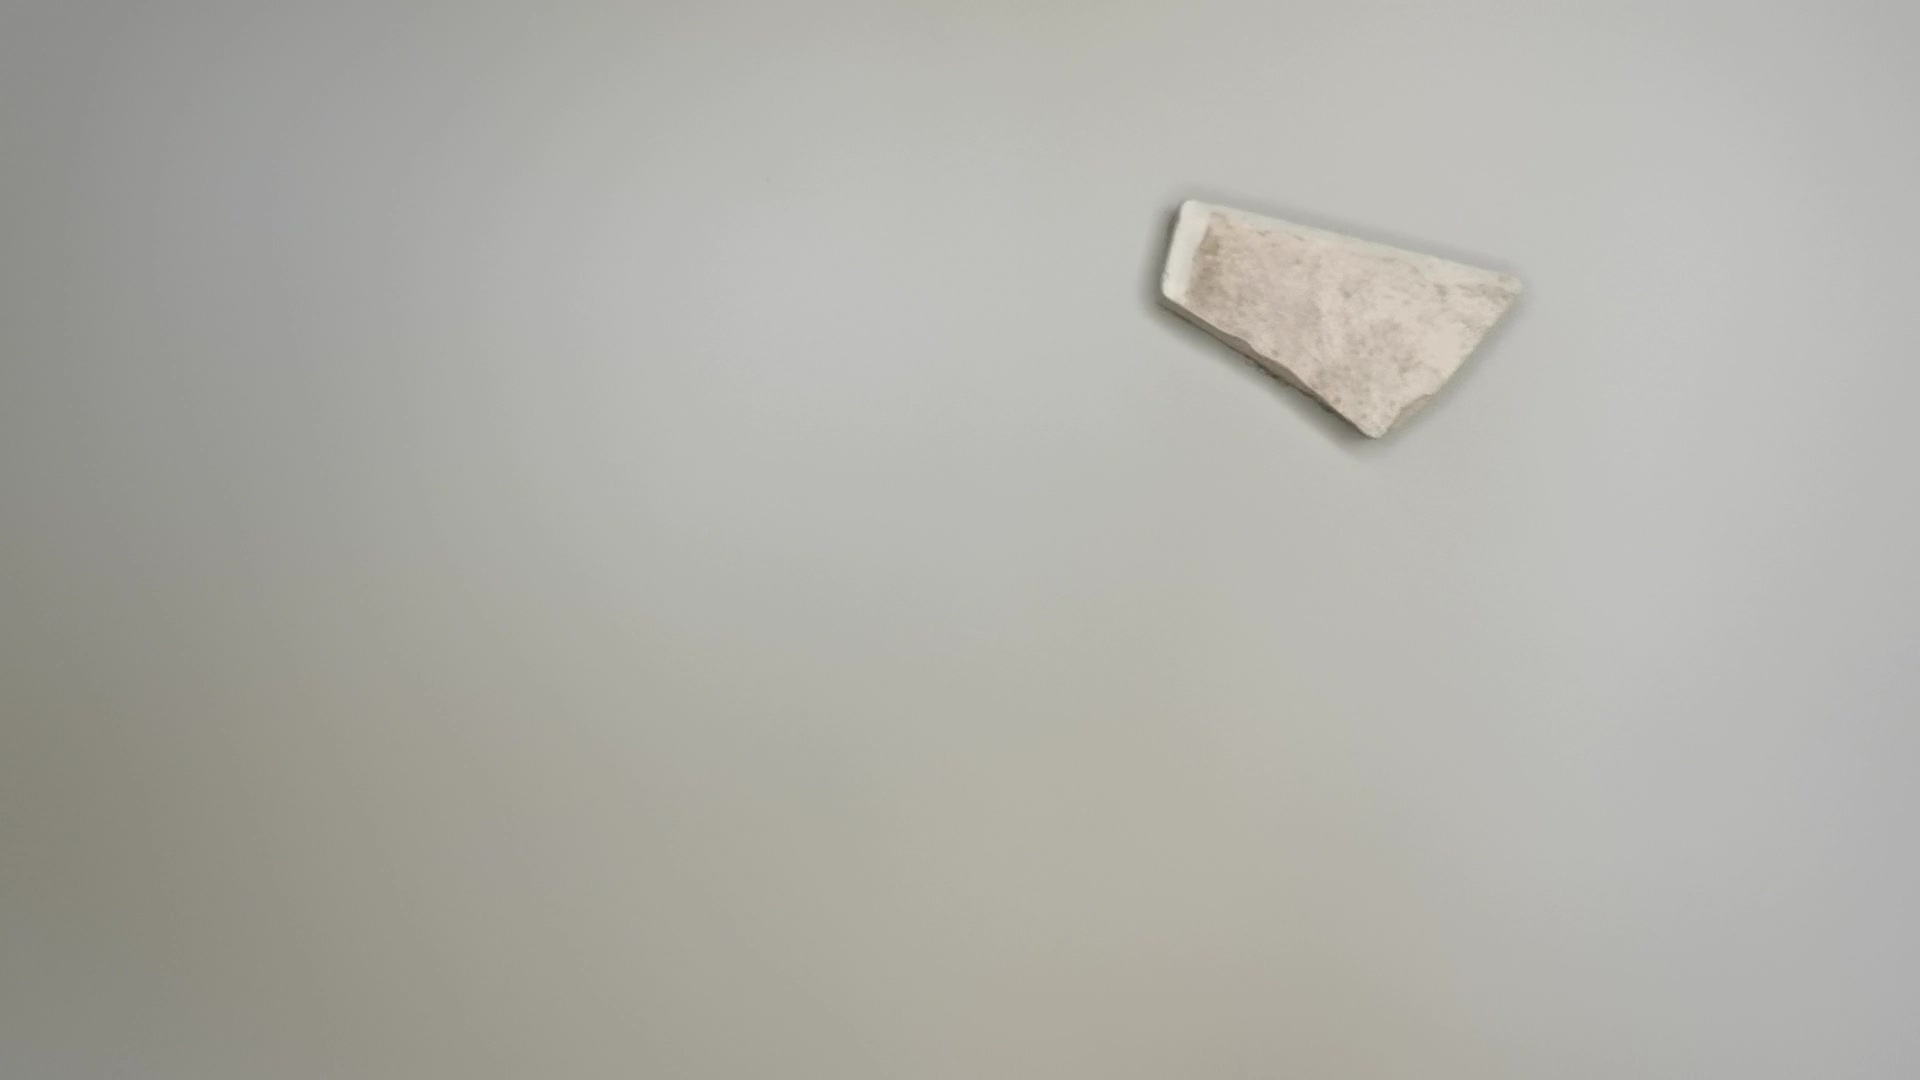ceramic: (1137, 196, 1538, 458)
